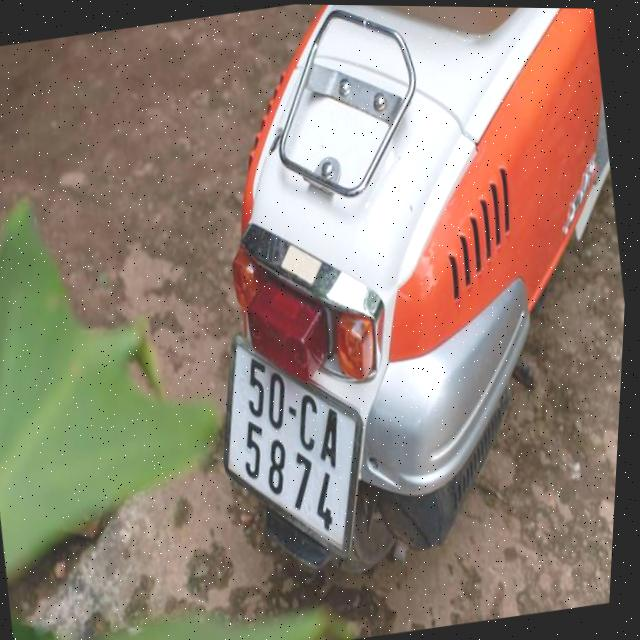motorcycle: (160, 3, 640, 586)
plate: (197, 311, 394, 576)
